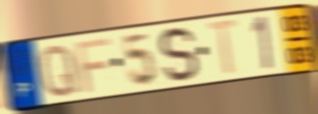1: (250, 13, 274, 73)
5: (120, 30, 157, 88)
F: (74, 36, 113, 95)
Q: (38, 42, 81, 100)
S: (157, 25, 201, 86)
T: (206, 17, 243, 79)
